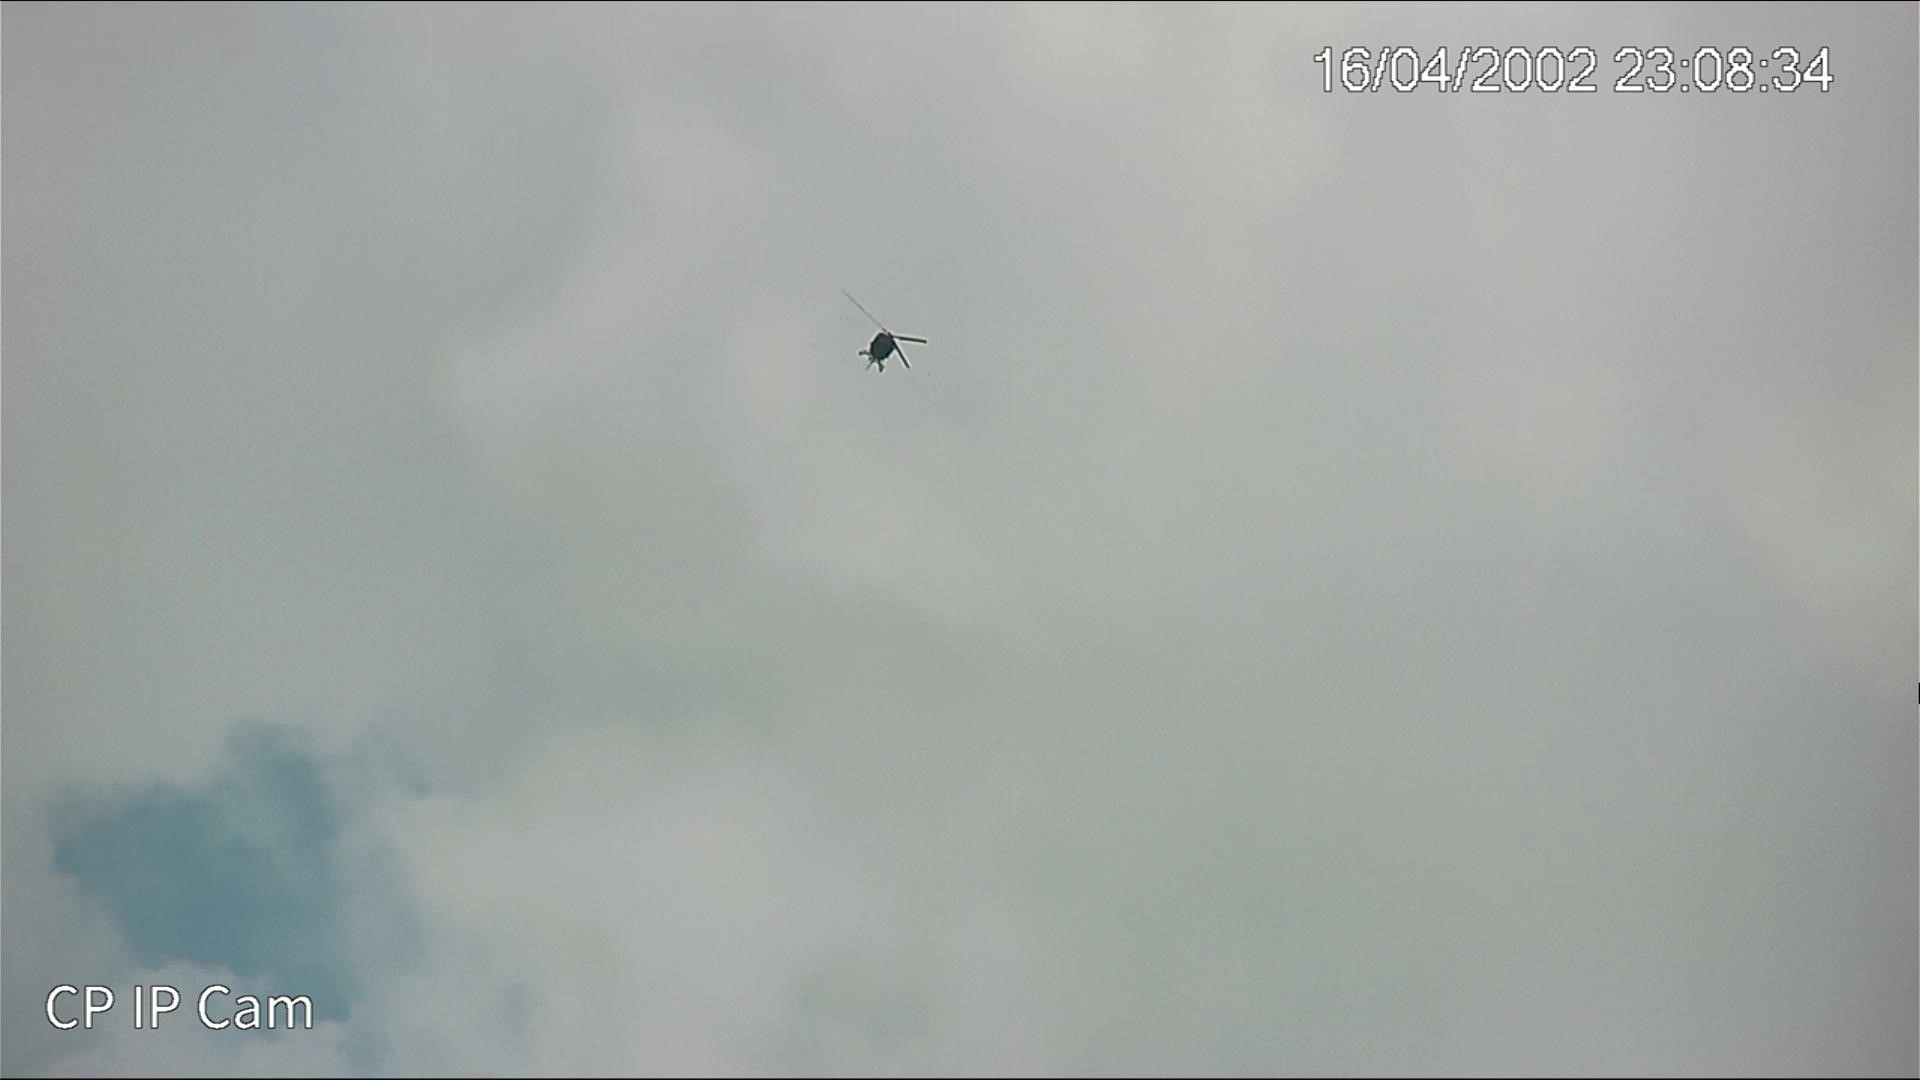SU_30: (855, 320, 903, 373)
